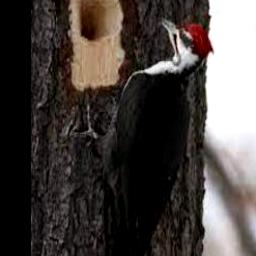Woodpecker: (75, 17, 214, 256)
